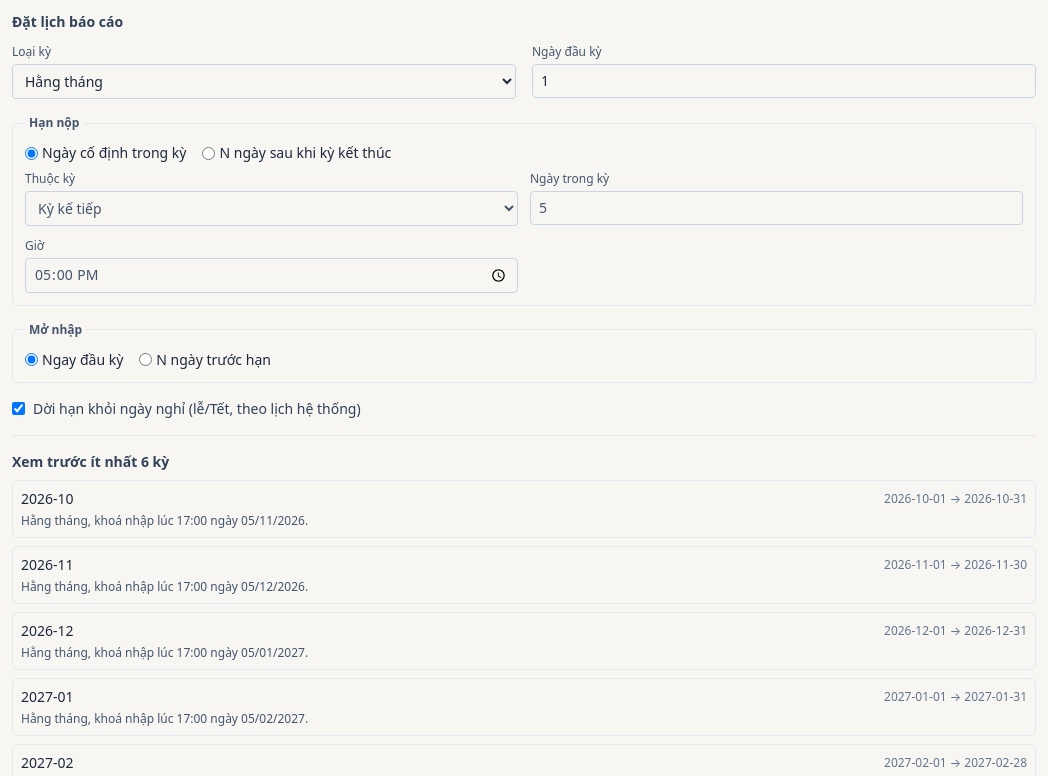
Test: ReportScheduleStep › switching to WEEKLY shows a weekday selector instead of a day-of-month input
The width and height of the screenshot is (1048, 776).
Select "Hằng tuần" in the dropdown with test id "select-period-type" at (264, 82), box [12, 64, 516, 99]
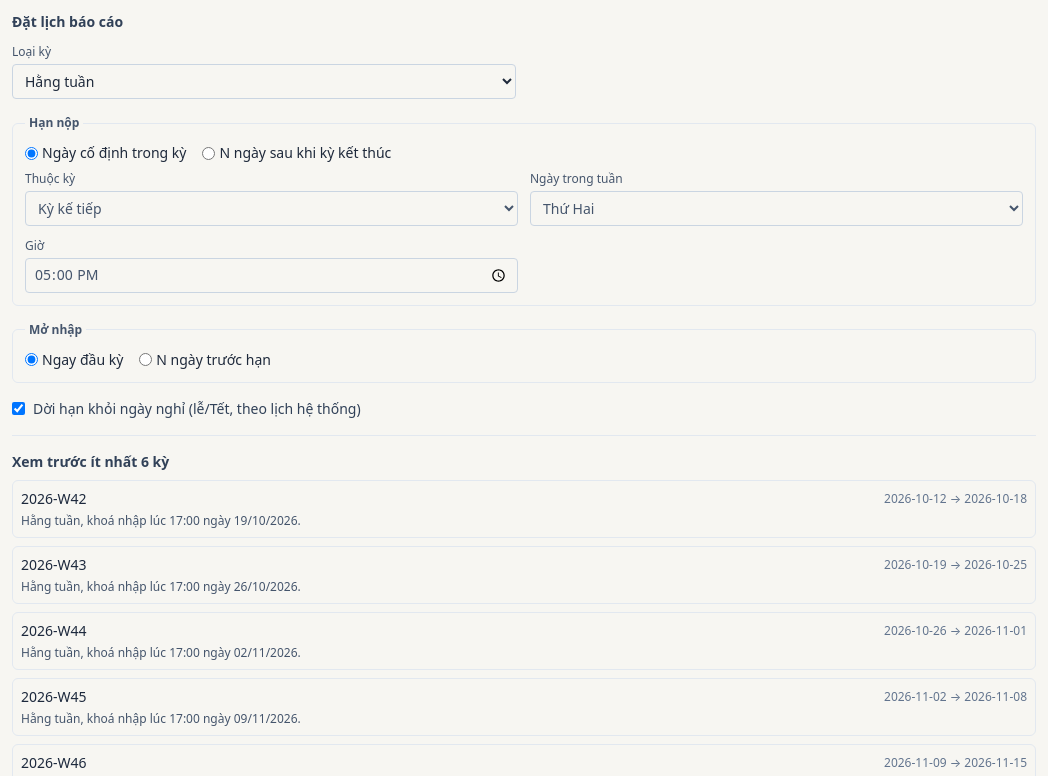
Expected: the number field with test id "input-anchor-day" is gone
Expected: the text "Ngày trong tuần" is shown, [530, 171, 1023, 226]
